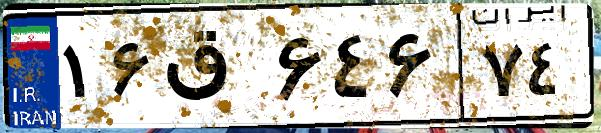1: (57, 26, 110, 100)
4: (330, 28, 385, 110), (525, 38, 570, 115)
6: (270, 28, 330, 110), (385, 28, 445, 110), (110, 28, 158, 98)
7: (475, 38, 525, 113)
ق: (158, 20, 270, 120)
